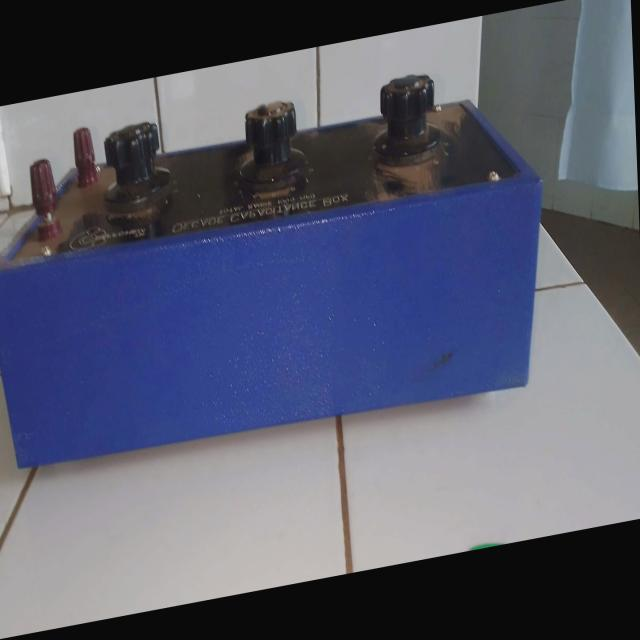Decade Capacitor Box: (0, 16, 556, 496)
